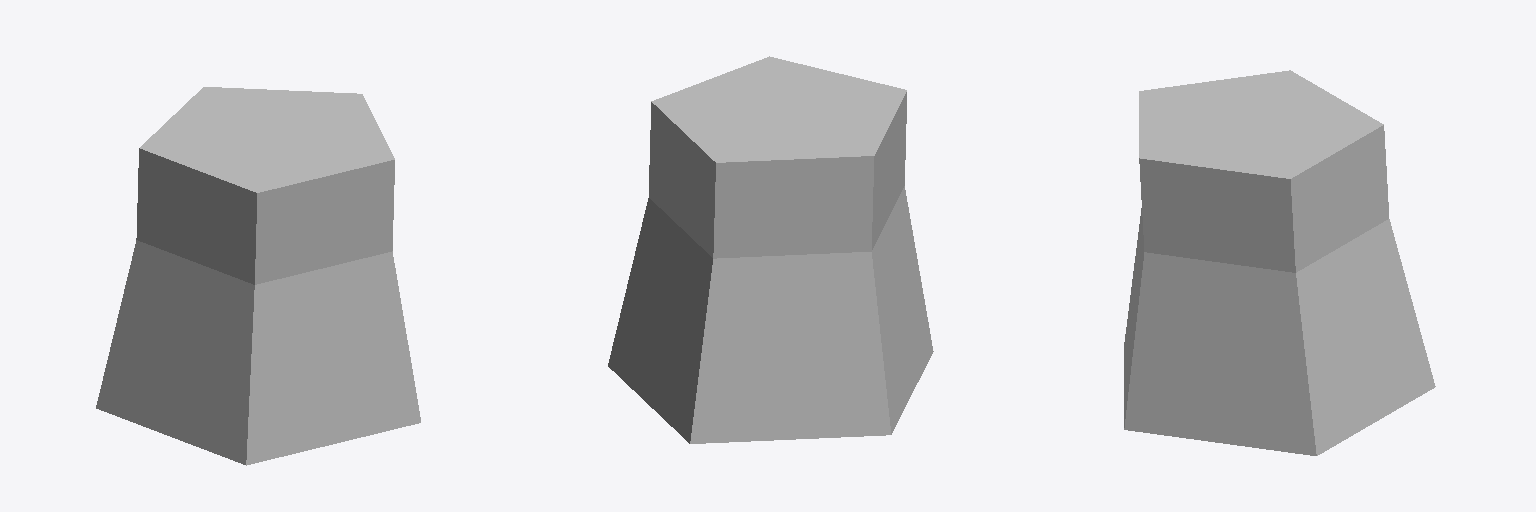
File: stump.obj
The picture shows the model from 3 angles: view 1: azimuth 30°, elevation 25°; view 2: azimuth 150°, elevation 25°; view 3: azimuth 270°, elevation 25°; orthographic projection.
Visible parts, largest first — view 1: Cube.001; view 2: Cube.001; view 3: Cube.001.
Boxes of the visible parts, x1=… form: Cube.001: x1=96, y1=87, x2=420, y2=465; Cube.001: x1=608, y1=56, x2=933, y2=443; Cube.001: x1=1124, y1=70, x2=1435, y2=455.
Size of the model in its own units: 1.06 by 0.9398 by 1.01.